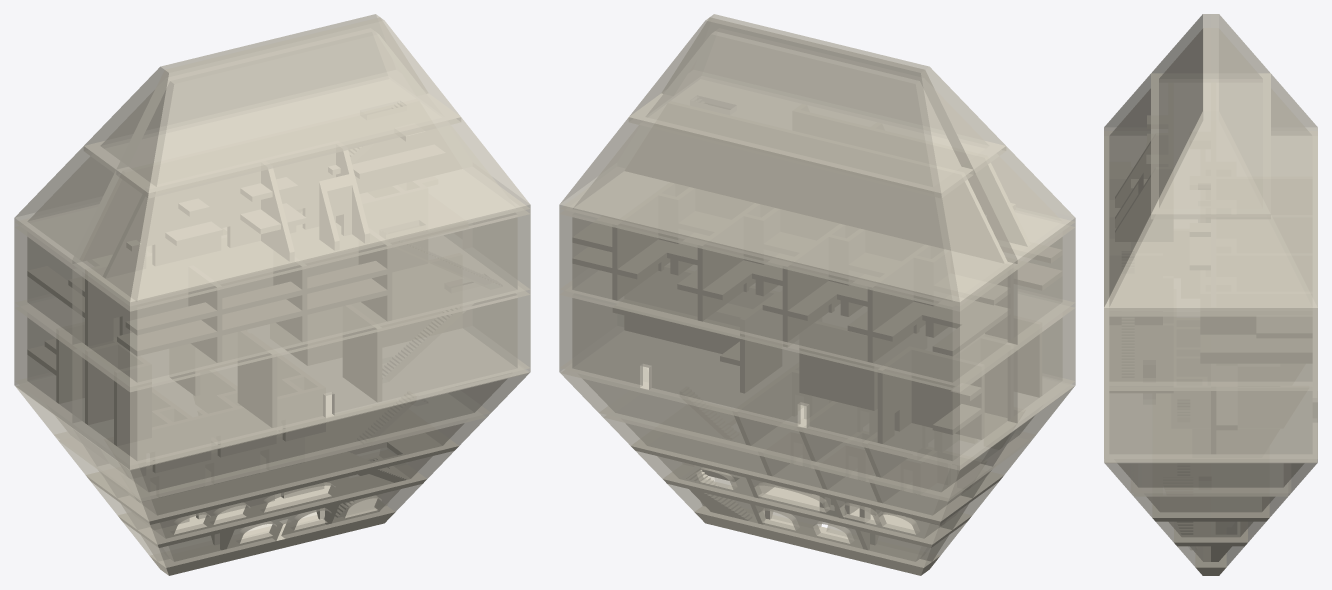
Rendered from Apartment Base with Rooms.obj.
3 renders of one model, left to right at view 1: azimuth 30°, elevation 25°; view 2: azimuth 150°, elevation 25°; view 3: azimuth 270°, elevation 25°, orthographic. The views are drawn at different scales.
Visible parts, largest first — view 1: Apartment_Base_with_Rooms_-_A0_front, Apartment_Base_with_Rooms_-_M1_front, Apartment_Base_with_Rooms_-_M0_front, Apartment_Base_with_Rooms_-_A1_front, Apartment_Base_with_Rooms_-_M0_floor, Apartment_Base_with_Rooms_-_A0_floor, Apartment_Base_with_Rooms_-_A1_back, Apartment_Base_with_Rooms_-_A1_front_(1), Apartment_Base_with_Rooms_-_Part_41, Apartment_Base_with_Rooms_-_M1_floor, Apartment_Base_with_Rooms_-_B3_front, Apartment_Base_with_Rooms_-_Part_40 (+22 smaller); view 2: Apartment_Base_with_Rooms_-_A0_back, Apartment_Base_with_Rooms_-_M1_back, Apartment_Base_with_Rooms_-_M0_back, Apartment_Base_with_Rooms_-_A1_back, Apartment_Base_with_Rooms_-_A0_floor, Apartment_Base_with_Rooms_-_Part_39, Apartment_Base_with_Rooms_-_M0_floor, Apartment_Base_with_Rooms_-_Part_42, Apartment_Base_with_Rooms_-_A1_front, Apartment_Base_with_Rooms_-_A1_front_(1), Apartment_Base_with_Rooms_-_M1_floor, Apartment_Base_with_Rooms_-_B3_back (+21 smaller); view 3: Apartment_Base_with_Rooms_-_A0_floor, Apartment_Base_with_Rooms_-_A0_back, Apartment_Base_with_Rooms_-_A0_front, Apartment_Base_with_Rooms_-_A1_front_(1), Apartment_Base_with_Rooms_-_M0_floor, Apartment_Base_with_Rooms_-_A1_front, Apartment_Base_with_Rooms_-_A1_back, Apartment_Base_with_Rooms_-_M1_floor, Apartment_Base_with_Rooms_-_M1_front, Apartment_Base_with_Rooms_-_M1_back, Apartment_Base_with_Rooms_-_M0_back, Apartment_Base_with_Rooms_-_M0_front (+17 smaller).
Part boxes in pixels (x1,y1,x2,y2): Apartment_Base_with_Rooms_-_A0_front: (72, 117, 530, 306); Apartment_Base_with_Rooms_-_M1_front: (72, 210, 530, 386); Apartment_Base_with_Rooms_-_M0_front: (72, 282, 530, 465); Apartment_Base_with_Rooms_-_A1_front: (116, 17, 460, 192); Apartment_Base_with_Rooms_-_M0_floor: (14, 304, 530, 470); Apartment_Base_with_Rooms_-_A0_floor: (14, 102, 530, 311); Apartment_Base_with_Rooms_-_A1_back: (84, 14, 427, 169); Apartment_Base_with_Rooms_-_A1_front_(1): (84, 79, 460, 198); Apartment_Base_with_Rooms_-_Part_41: (102, 150, 369, 278); Apartment_Base_with_Rooms_-_M1_floor: (14, 231, 530, 392); Apartment_Base_with_Rooms_-_B3_front: (73, 370, 528, 498); Apartment_Base_with_Rooms_-_Part_40: (117, 243, 392, 362); Apartment_Base_with_Rooms_-_A0_back: (559, 95, 1017, 306); Apartment_Base_with_Rooms_-_M1_back: (559, 210, 1017, 386); Apartment_Base_with_Rooms_-_M0_back: (559, 291, 1017, 465); Apartment_Base_with_Rooms_-_A1_back: (629, 17, 973, 192); Apartment_Base_with_Rooms_-_A0_floor: (559, 97, 1075, 311); Apartment_Base_with_Rooms_-_Part_39: (572, 219, 1007, 362); Apartment_Base_with_Rooms_-_M0_floor: (559, 331, 1075, 470); Apartment_Base_with_Rooms_-_Part_42: (625, 128, 1007, 263); Apartment_Base_with_Rooms_-_A1_front: (662, 14, 1005, 169); Apartment_Base_with_Rooms_-_A1_front_(1): (629, 79, 1005, 198); Apartment_Base_with_Rooms_-_M1_floor: (559, 263, 1075, 392); Apartment_Base_with_Rooms_-_B3_back: (561, 370, 1016, 498); Apartment_Base_with_Rooms_-_A0_floor: (1104, 131, 1317, 316); Apartment_Base_with_Rooms_-_A0_back: (1211, 74, 1317, 311); Apartment_Base_with_Rooms_-_A0_front: (1104, 74, 1210, 311); Apartment_Base_with_Rooms_-_A1_front_(1): (1151, 74, 1270, 218); Apartment_Base_with_Rooms_-_M0_floor: (1104, 391, 1317, 463); Apartment_Base_with_Rooms_-_A1_front: (1151, 14, 1210, 214); Apartment_Base_with_Rooms_-_A1_back: (1211, 14, 1270, 214); Apartment_Base_with_Rooms_-_M1_floor: (1104, 253, 1317, 390); Apartment_Base_with_Rooms_-_M1_front: (1104, 312, 1210, 386); Apartment_Base_with_Rooms_-_M1_back: (1211, 312, 1317, 386); Apartment_Base_with_Rooms_-_M0_back: (1211, 386, 1317, 458); Apartment_Base_with_Rooms_-_M0_front: (1104, 387, 1210, 458).
Size of the model in its own units: 40 by 48 by 20.
